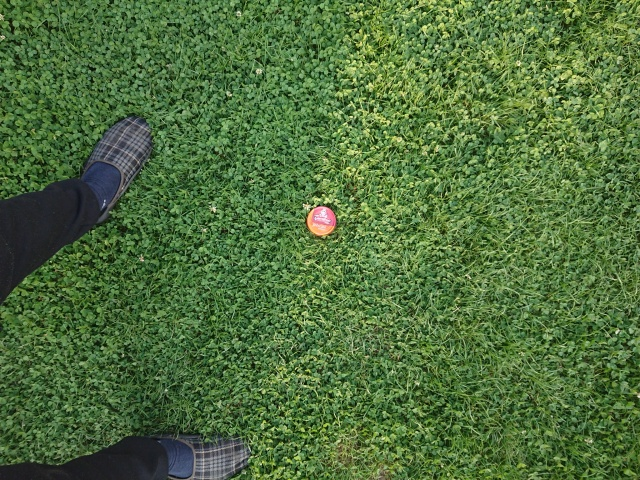Gavrilovic Pork Liver Pate 100g: (305, 205, 337, 236)
